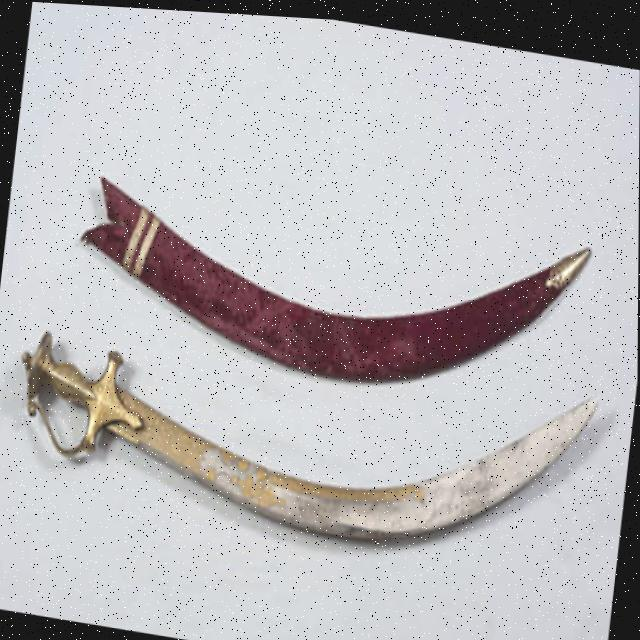knife: (2, 293, 606, 581)
